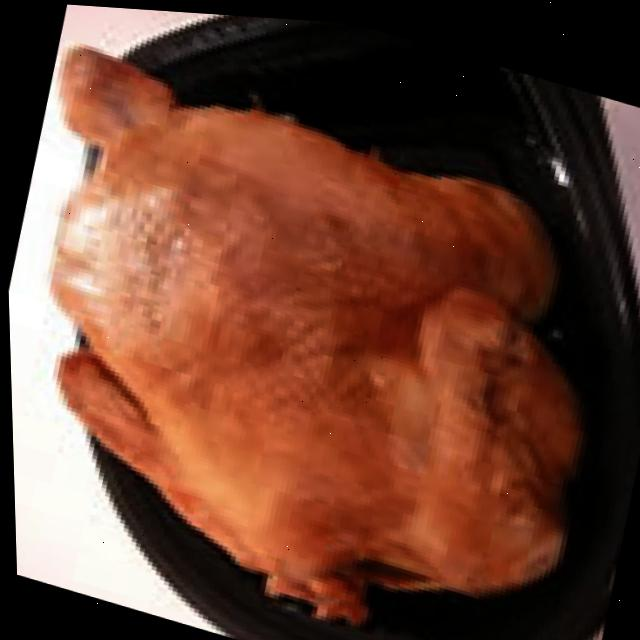鸡肉料理 含炸鸡: (1, 29, 640, 640)
